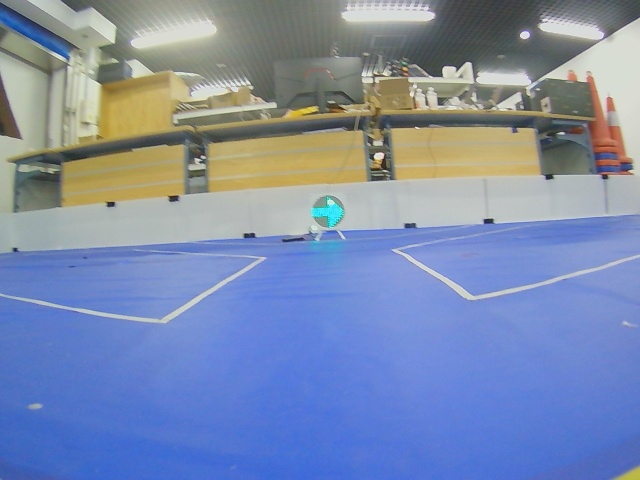right_green: (311, 195, 345, 228)
